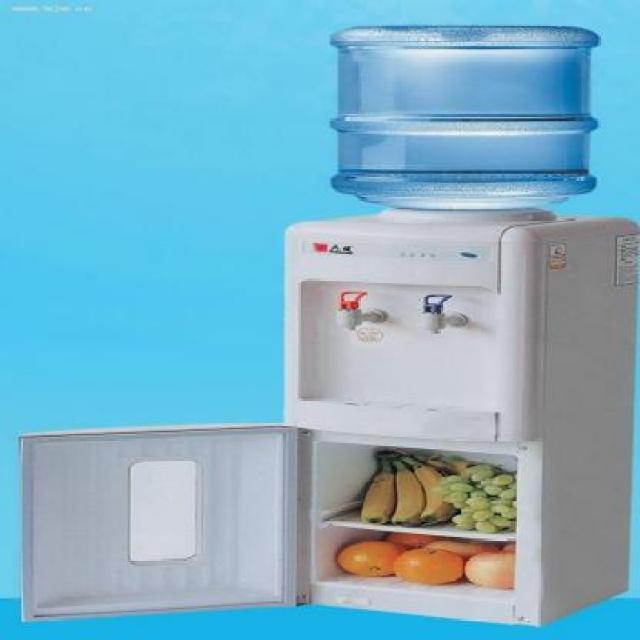cooler: (277, 22, 636, 630)
